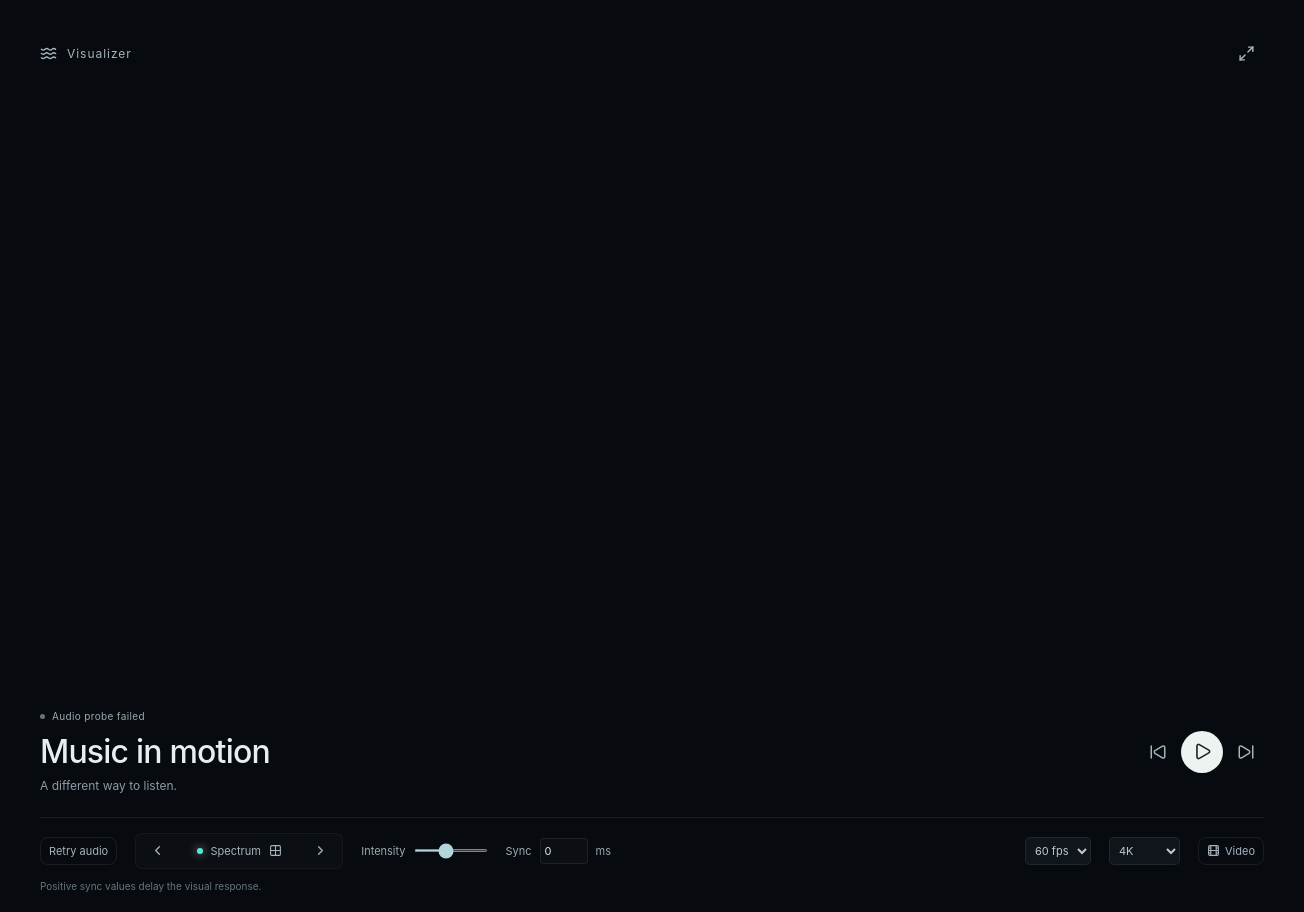
it: Visualizer window › retries audio analysis after an inspection failure
Click the button with aria-label "Retry audio analysis" at [79, 851], box [40,836,117,865]
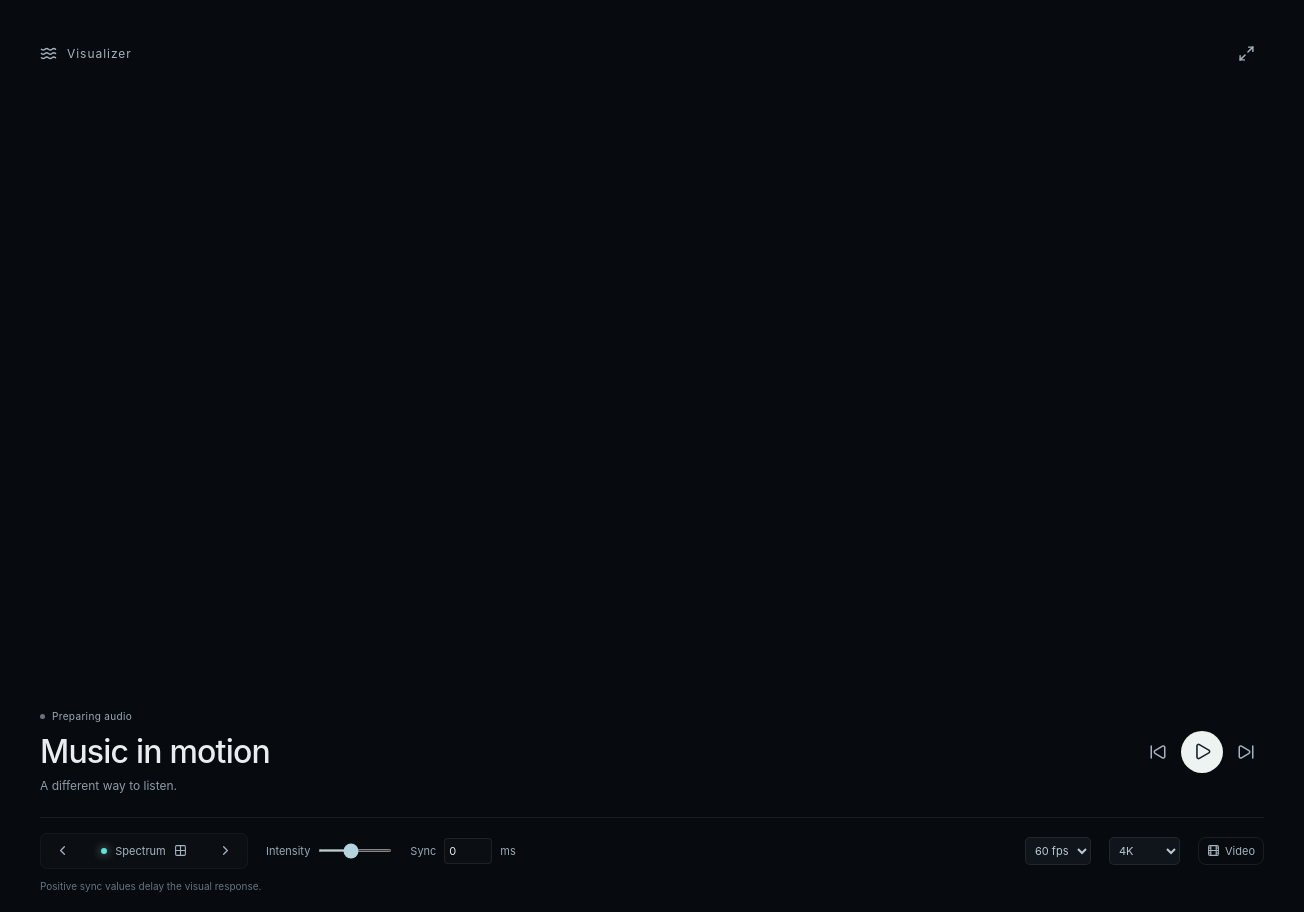
Result: the text "Preparing audio" is shown at [40,710,132,722]
